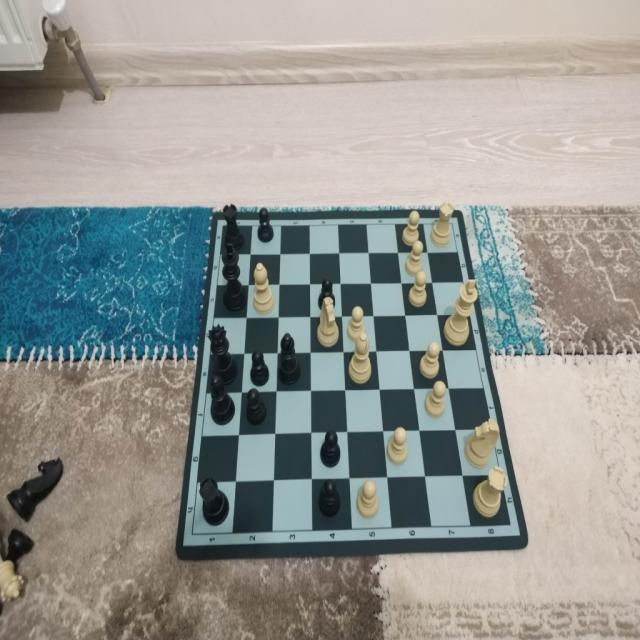chess-table-corners: (186, 520, 204, 542), (500, 513, 516, 532), (213, 216, 226, 231), (450, 216, 460, 228)
